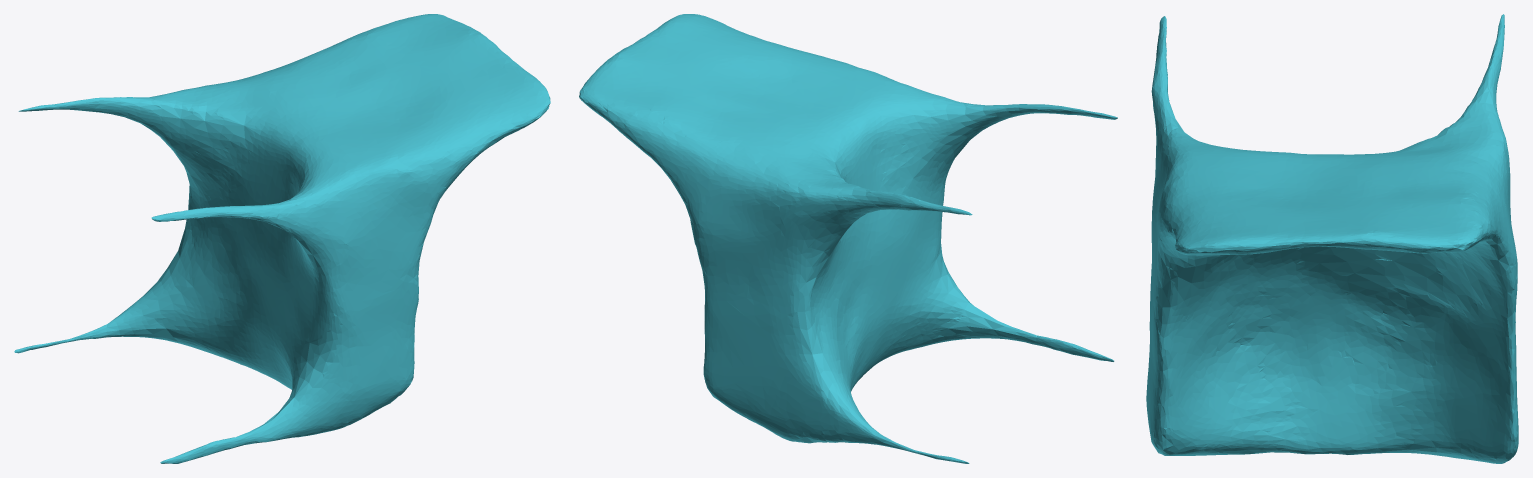
3 views of the same model, side by side, from view 1: azimuth 30°, elevation 25°; view 2: azimuth 150°, elevation 25°; view 3: azimuth 270°, elevation 25° (orthographic). The views are drawn at different scales.
Visible parts, largest first — view 1: Renderer Node; view 2: Renderer Node; view 3: Renderer Node.
Part boxes in pixels (x1,y1,x2,y2): Renderer Node: [14, 14, 550, 463]; Renderer Node: [579, 14, 1117, 463]; Renderer Node: [1146, 14, 1518, 463].
Bounding box in the file's own units: 0.662 × 0.4393 × 0.4173.
Materials: 1 (1 with a texture image).
